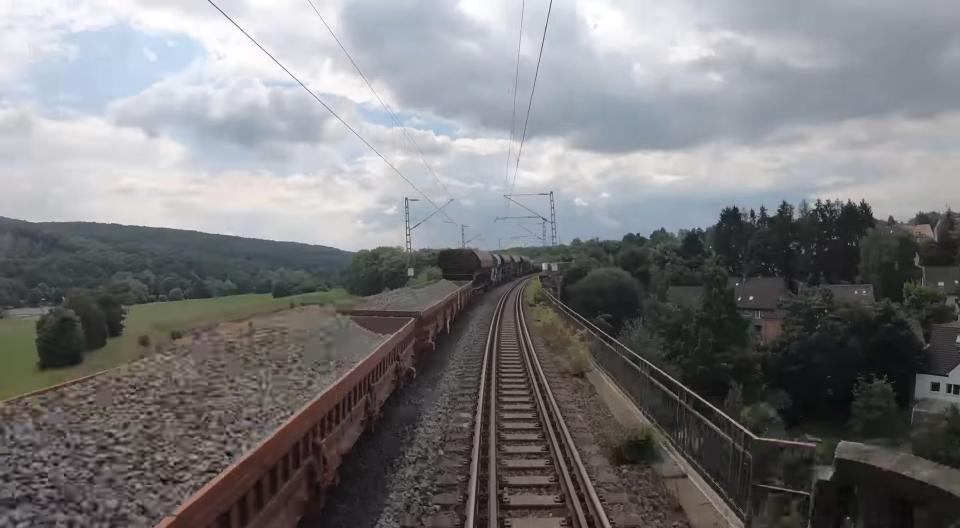Plant: (526, 285, 589, 375), (612, 426, 656, 464)
